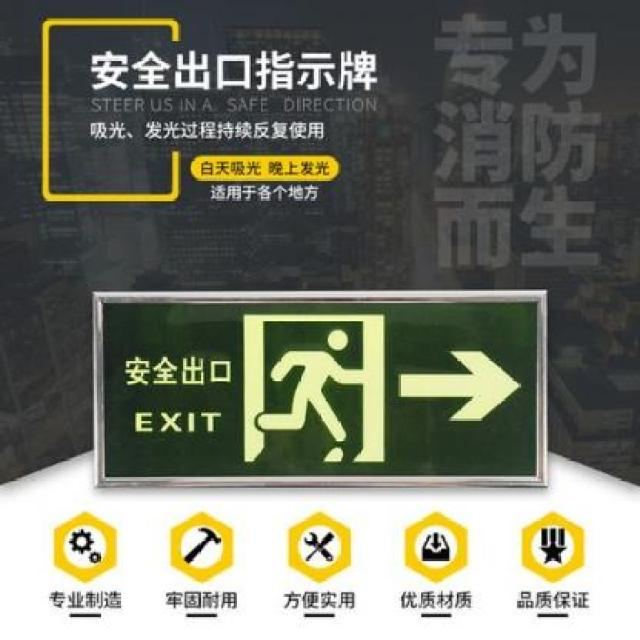exit_sign: (89, 286, 555, 492)
